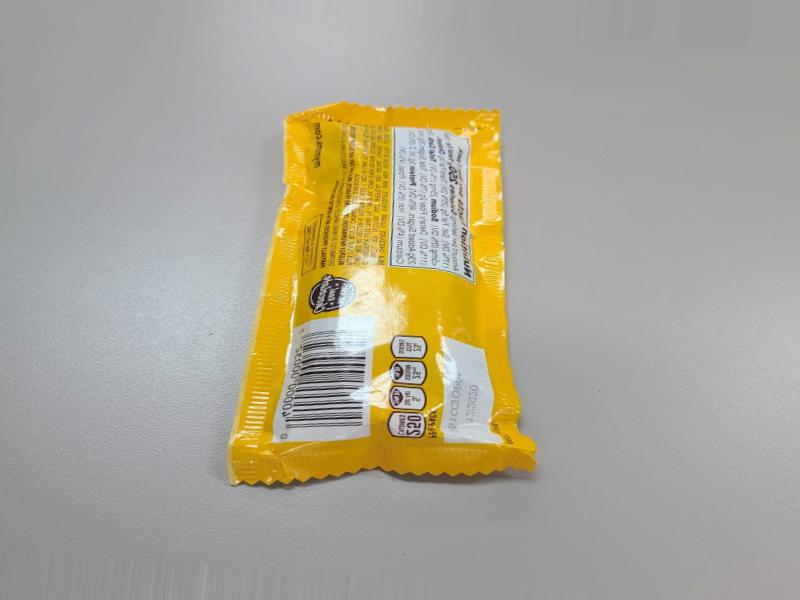m&m: (241, 74, 529, 500)
